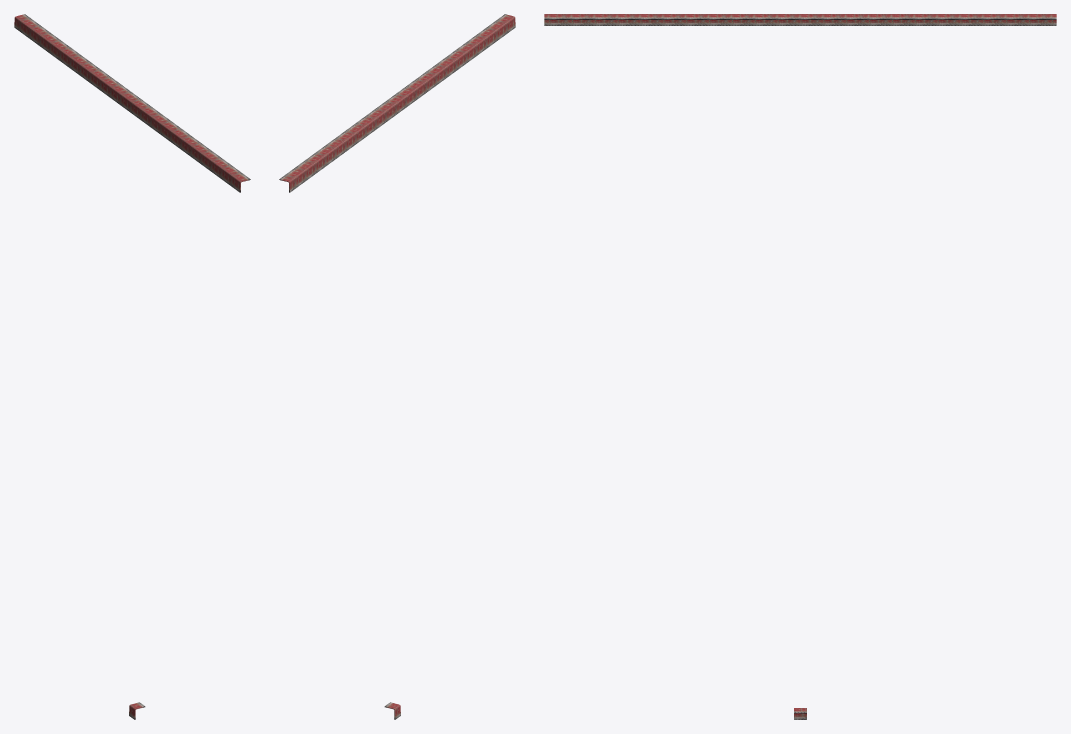
The model's file is MOD_WallProtect_51.FBX.
3 renders of one model, left to right at view 1: azimuth 30°, elevation 25°; view 2: azimuth 150°, elevation 25°; view 3: azimuth 270°, elevation 25°, orthographic. The views are drawn at different scales.
Visible parts, largest first — view 1: MOD_WallProtect_4000; view 2: MOD_WallProtect_4000; view 3: MOD_WallProtect_4000.
Part boxes in pixels (<box>): MOD_WallProtect_4000: <box>14,14,250,192</box>; MOD_WallProtect_4000: <box>279,14,515,192</box>; MOD_WallProtect_4000: <box>544,14,1056,25</box>.
Bounding box in the file's own units: 78.07 × 3031 × 2000.
Materials: 1 (1 with a texture image).
